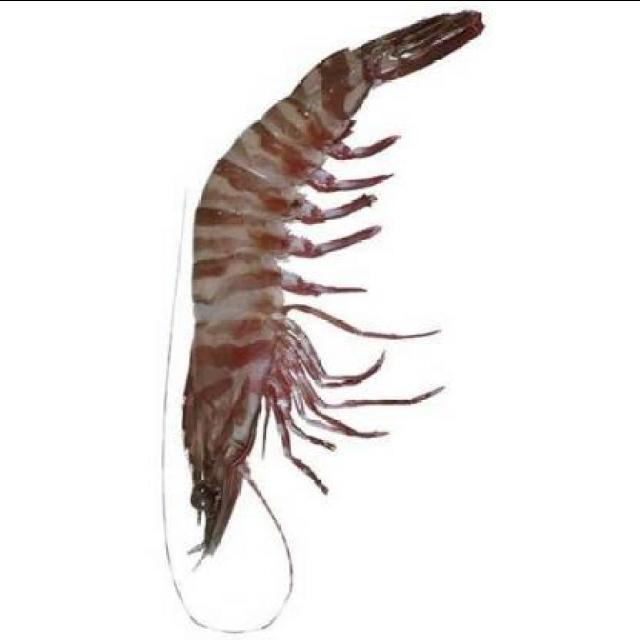shrimp: (174, 4, 502, 566)
